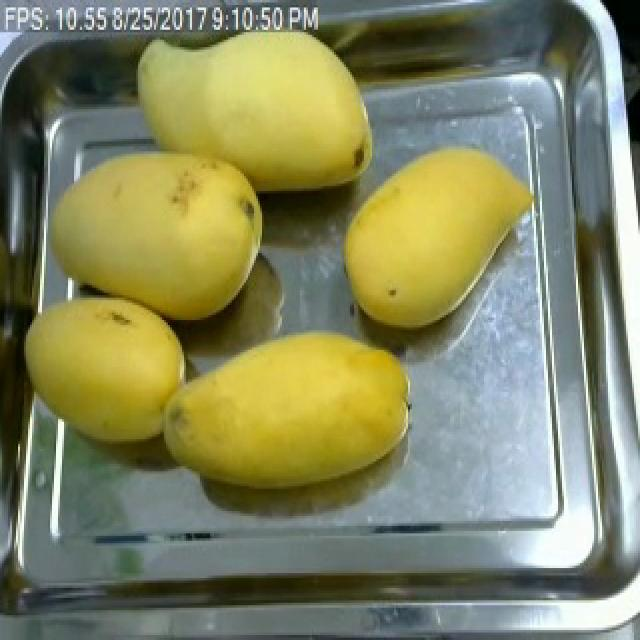fruit: (148, 318, 420, 501), (124, 17, 384, 206), (42, 134, 278, 337), (328, 132, 542, 342), (12, 285, 194, 454)
